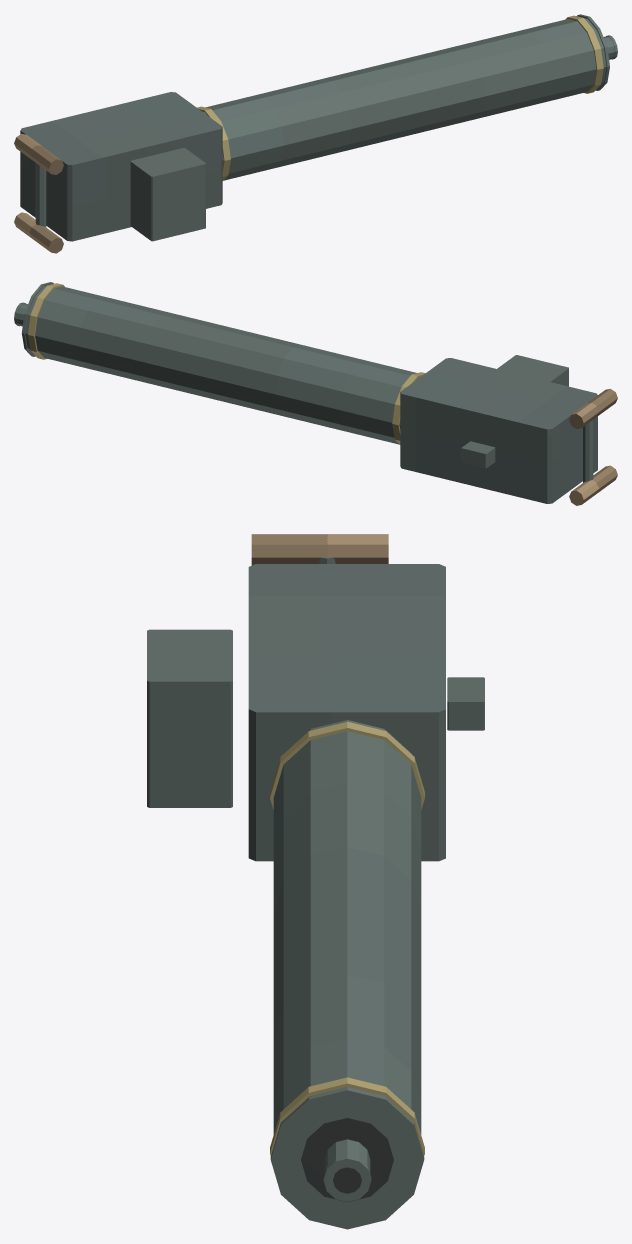
Rendered from weapon-vickers.glb.
3 views of the same model, one above another, from view 1: azimuth 30°, elevation 25°; view 2: azimuth 150°, elevation 25°; view 3: azimuth 270°, elevation 25° (orthographic). The views are drawn at different scales.
Visible parts, largest first — view 1: weapon-vickers/water-jacket, weapon-vickers/large-rear-receiver, weapon-vickers/mounting-base, weapon-vickers/rear-paired-grip--1, weapon-vickers/rear-paired-grip-1, weapon-vickers/grip-rear-bridge-1, weapon-vickers/jacket-brass-ring-0.48700000000000004, weapon-vickers/jacket-brass-ring--0.20800000000000002, weapon-vickers/water-jacket-end-rim; view 2: weapon-vickers/water-jacket, weapon-vickers/large-rear-receiver, weapon-vickers/mounting-base, weapon-vickers/rear-paired-grip--1, weapon-vickers/rear-paired-grip-1, weapon-vickers/narrow-top-sight, weapon-vickers/jacket-brass-ring-0.48700000000000004, weapon-vickers/grip-rear-bridge-1, weapon-vickers/jacket-brass-ring--0.20800000000000002, weapon-vickers/water-jacket-end-rim; view 3: weapon-vickers/water-jacket, weapon-vickers/large-rear-receiver, weapon-vickers/mounting-base, weapon-vickers/water-jacket-end-rim, weapon-vickers/rear-paired-grip--1, weapon-vickers/water-jacket-dark-end, weapon-vickers/narrow-top-sight, weapon-vickers/jacket-brass-ring--0.20800000000000002, weapon-vickers/jacket-brass-ring-0.48700000000000004, weapon-vickers/protruding-short-end-end-rim.
Boxes of the visible parts, x1,y1,x2,y2 form: weapon-vickers/water-jacket: (202,16,606,180); weapon-vickers/large-rear-receiver: (20,92,222,241); weapon-vickers/mounting-base: (130,148,205,241); weapon-vickers/rear-paired-grip--1: (14,133,63,174); weapon-vickers/rear-paired-grip-1: (14,212,63,253); weapon-vickers/grip-rear-bridge-1: (35,163,46,227); weapon-vickers/jacket-brass-ring-0.48700000000000004: (565,15,603,93); weapon-vickers/jacket-brass-ring--0.20800000000000002: (197,106,230,180); weapon-vickers/water-jacket-end-rim: (577,14,609,90); weapon-vickers/water-jacket: (25,284,419,444); weapon-vickers/large-rear-receiver: (400,358,597,503); weapon-vickers/mounting-base: (497,355,568,386); weapon-vickers/rear-paired-grip--1: (569,389,617,428); weapon-vickers/rear-paired-grip-1: (569,465,617,505); weapon-vickers/narrow-top-sight: (461,441,495,468); weapon-vickers/jacket-brass-ring-0.48700000000000004: (28,283,64,359); weapon-vickers/grip-rear-bridge-1: (583,420,593,482); weapon-vickers/jacket-brass-ring--0.20800000000000002: (392,372,425,444); weapon-vickers/water-jacket-end-rim: (21,282,53,356); weapon-vickers/water-jacket: (273,720,421,1134); weapon-vickers/large-rear-receiver: (248,564,445,861); weapon-vickers/mounting-base: (147,629,232,807); weapon-vickers/water-jacket-end-rim: (270,1087,424,1229); weapon-vickers/rear-paired-grip--1: (251,534,388,565); weapon-vickers/water-jacket-dark-end: (301,1117,393,1202); weapon-vickers/narrow-top-sight: (447,677,484,730); weapon-vickers/jacket-brass-ring--0.20800000000000002: (270,722,424,809); weapon-vickers/jacket-brass-ring-0.48700000000000004: (270,1077,424,1156); weapon-vickers/protruding-short-end-end-rim: (323,1156,371,1201).
Bounding box in the file's own units: 1.1 × 0.168 × 0.279.
Materials: 4 (4 with a texture image).
